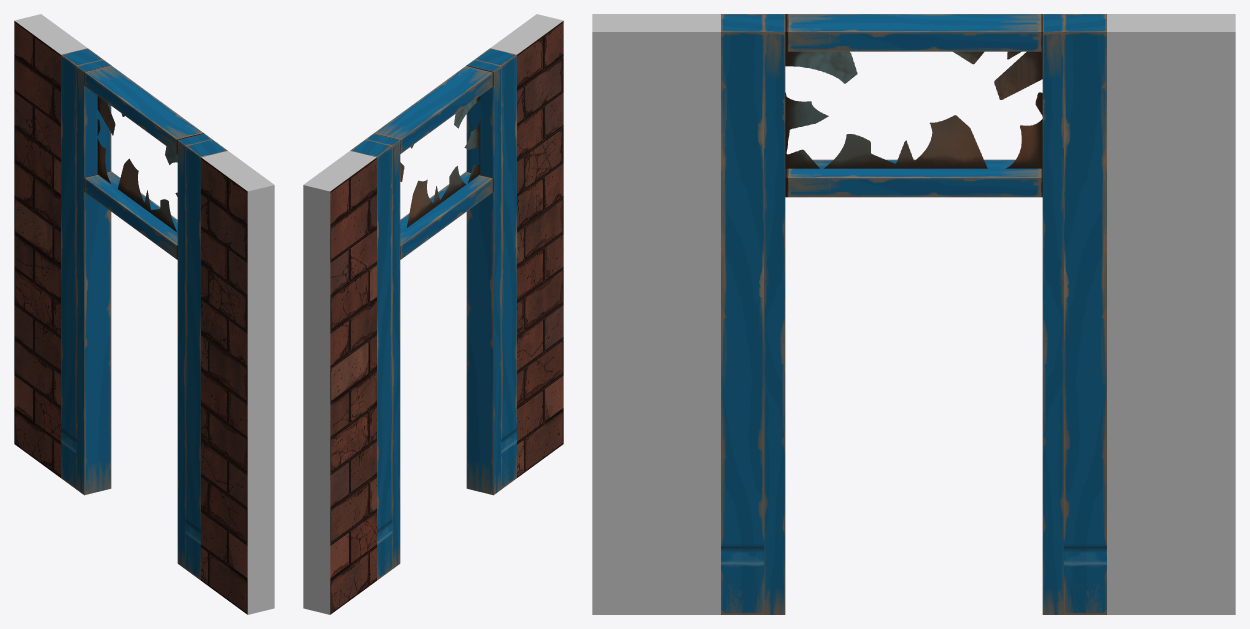
File: storeFront03_entrance.FBX
The picture shows the model from 3 angles, left to right: view 1: azimuth 30°, elevation 25°; view 2: azimuth 150°, elevation 25°; view 3: azimuth 270°, elevation 25°; orthographic projection. The views are drawn at different scales.
Visible parts, largest first — view 1: storeFront03_entrance, storeFront03_entrance_glass; view 2: storeFront03_entrance, storeFront03_entrance_glass; view 3: storeFront03_entrance, storeFront03_entrance_glass.
Part boxes in pixels (x1=…): storeFront03_entrance: x1=14, y1=14, x2=274, y2=614; storeFront03_entrance_glass: x1=97, y1=96, x2=177, y2=231; storeFront03_entrance: x1=303, y1=14, x2=563, y2=614; storeFront03_entrance_glass: x1=400, y1=96, x2=480, y2=227; storeFront03_entrance: x1=592, y1=14, x2=1235, y2=614; storeFront03_entrance_glass: x1=785, y1=51, x2=1042, y2=168.
Bounding box in the file's own units: 20 × 300 × 300.
